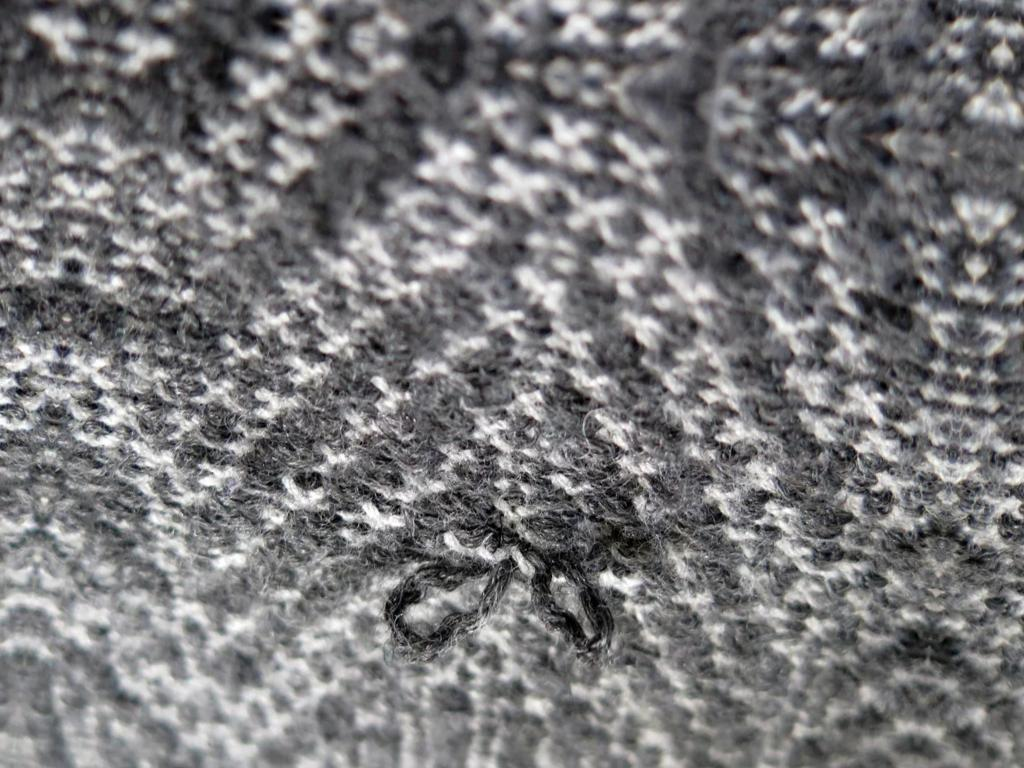snag: (377, 540, 522, 675), (532, 546, 635, 672)
